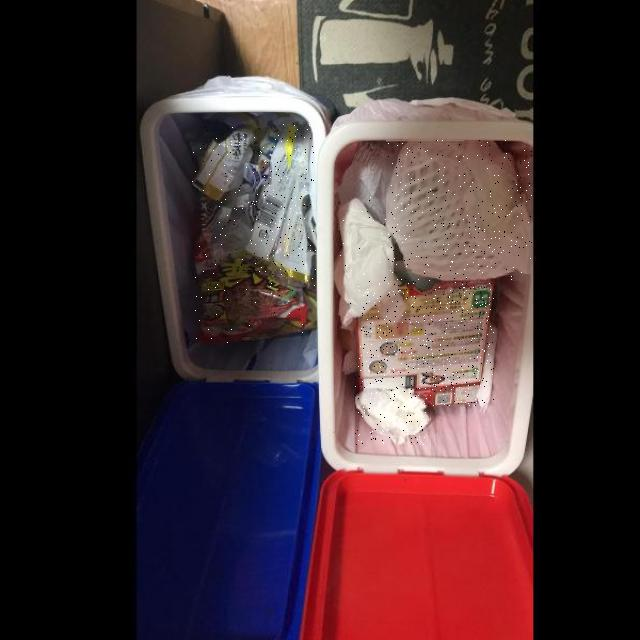paper: (359, 279, 494, 406), (464, 140, 532, 273), (338, 197, 396, 326), (355, 377, 430, 444)
styrofoam: (387, 140, 517, 280)
wrapper: (195, 238, 317, 343), (245, 123, 314, 274), (193, 127, 257, 201), (214, 183, 255, 240)
